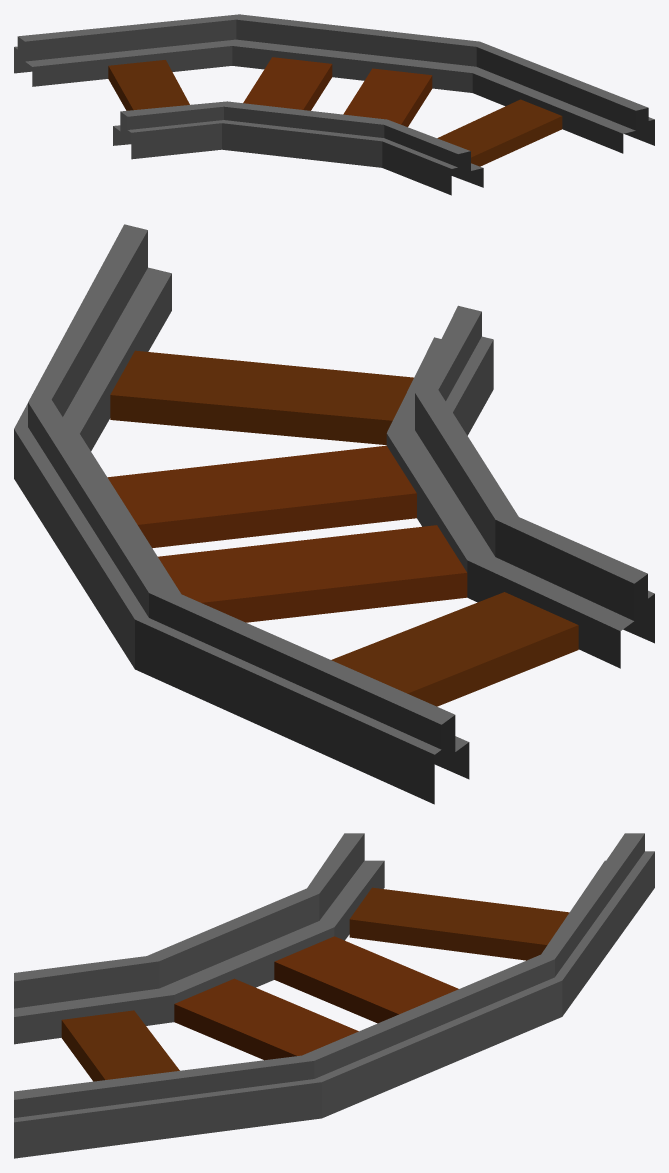
The model's file is trackcurve.obj.
3 renders of one model, top to bottom at view 1: azimuth 30°, elevation 25°; view 2: azimuth 150°, elevation 25°; view 3: azimuth 270°, elevation 25°, orthographic. The views are drawn at different scales.
Parts seen in each view (by area): view 1: trackcurve_back; view 2: trackcurve_back; view 3: trackcurve_back.
Boxes of the visible parts, bbox=[...] form: trackcurve_back: bbox=[14, 14, 654, 195]; trackcurve_back: bbox=[14, 224, 654, 804]; trackcurve_back: bbox=[14, 833, 654, 1158].
Size of the model in its own units: 2.56 by 0.24 by 2.56.
